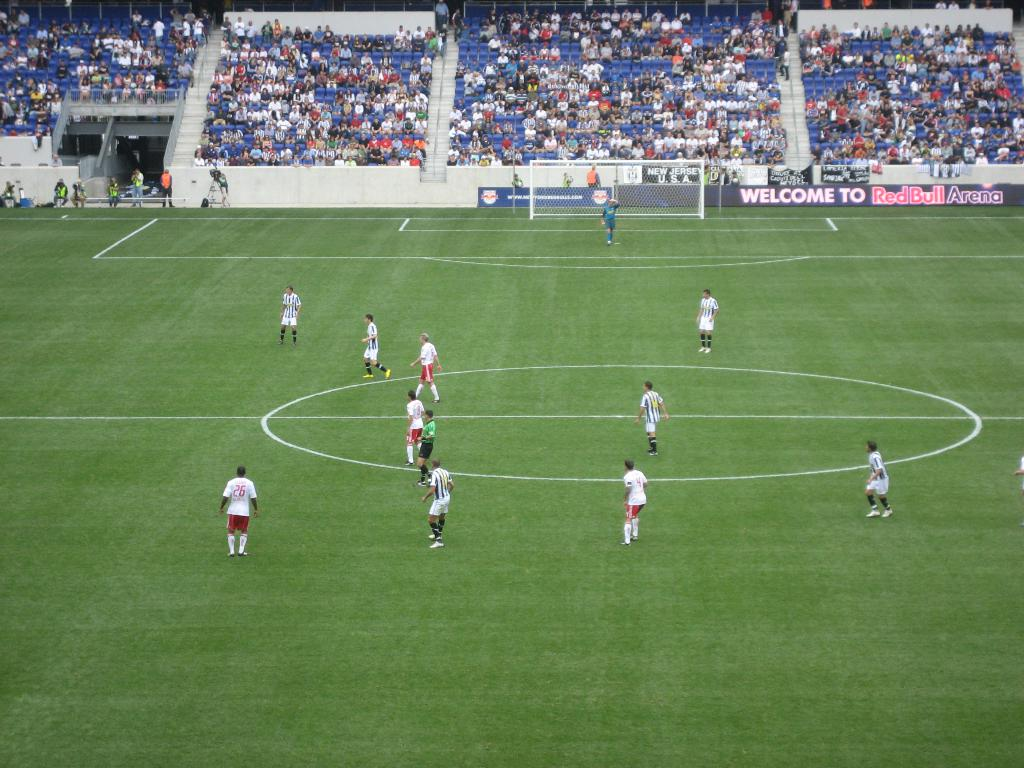Person: (0, 0, 1024, 213), (217, 463, 263, 568), (417, 454, 457, 549), (633, 373, 673, 455), (408, 328, 446, 403), (621, 457, 651, 548), (862, 438, 893, 521), (358, 308, 392, 379), (693, 286, 721, 357), (274, 281, 304, 346), (403, 389, 424, 472), (418, 410, 436, 489), (595, 194, 620, 249), (1009, 446, 1024, 528)
